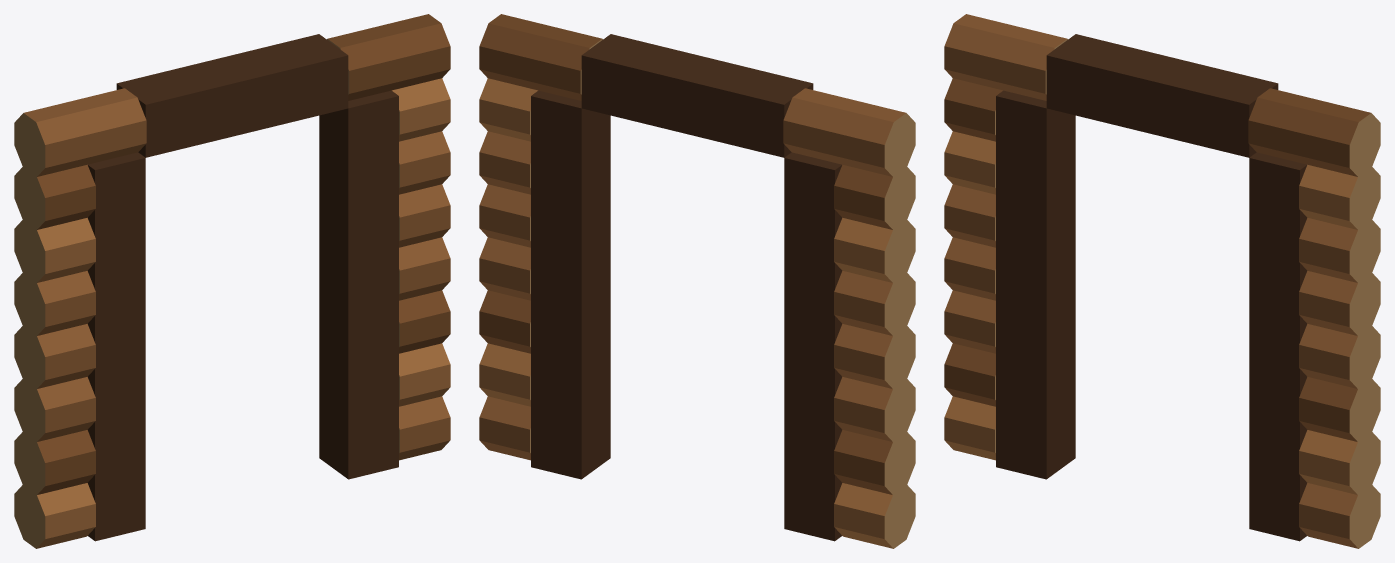
File: piece_doorway_voxel.fbx
3 renders of one model, left to right at view 1: azimuth 30°, elevation 25°; view 2: azimuth 150°, elevation 25°; view 3: azimuth 330°, elevation 25°, orthographic.
Visible parts, largest first — view 1: piece_doorway_voxel; view 2: piece_doorway_voxel; view 3: piece_doorway_voxel.
Boxes of the visible parts, x1,y1,x2,y2 form: piece_doorway_voxel: (14, 14, 450, 548); piece_doorway_voxel: (479, 14, 915, 548); piece_doorway_voxel: (944, 14, 1380, 548).
Size of the model in its own units: 2 by 2.01 by 0.2624.
